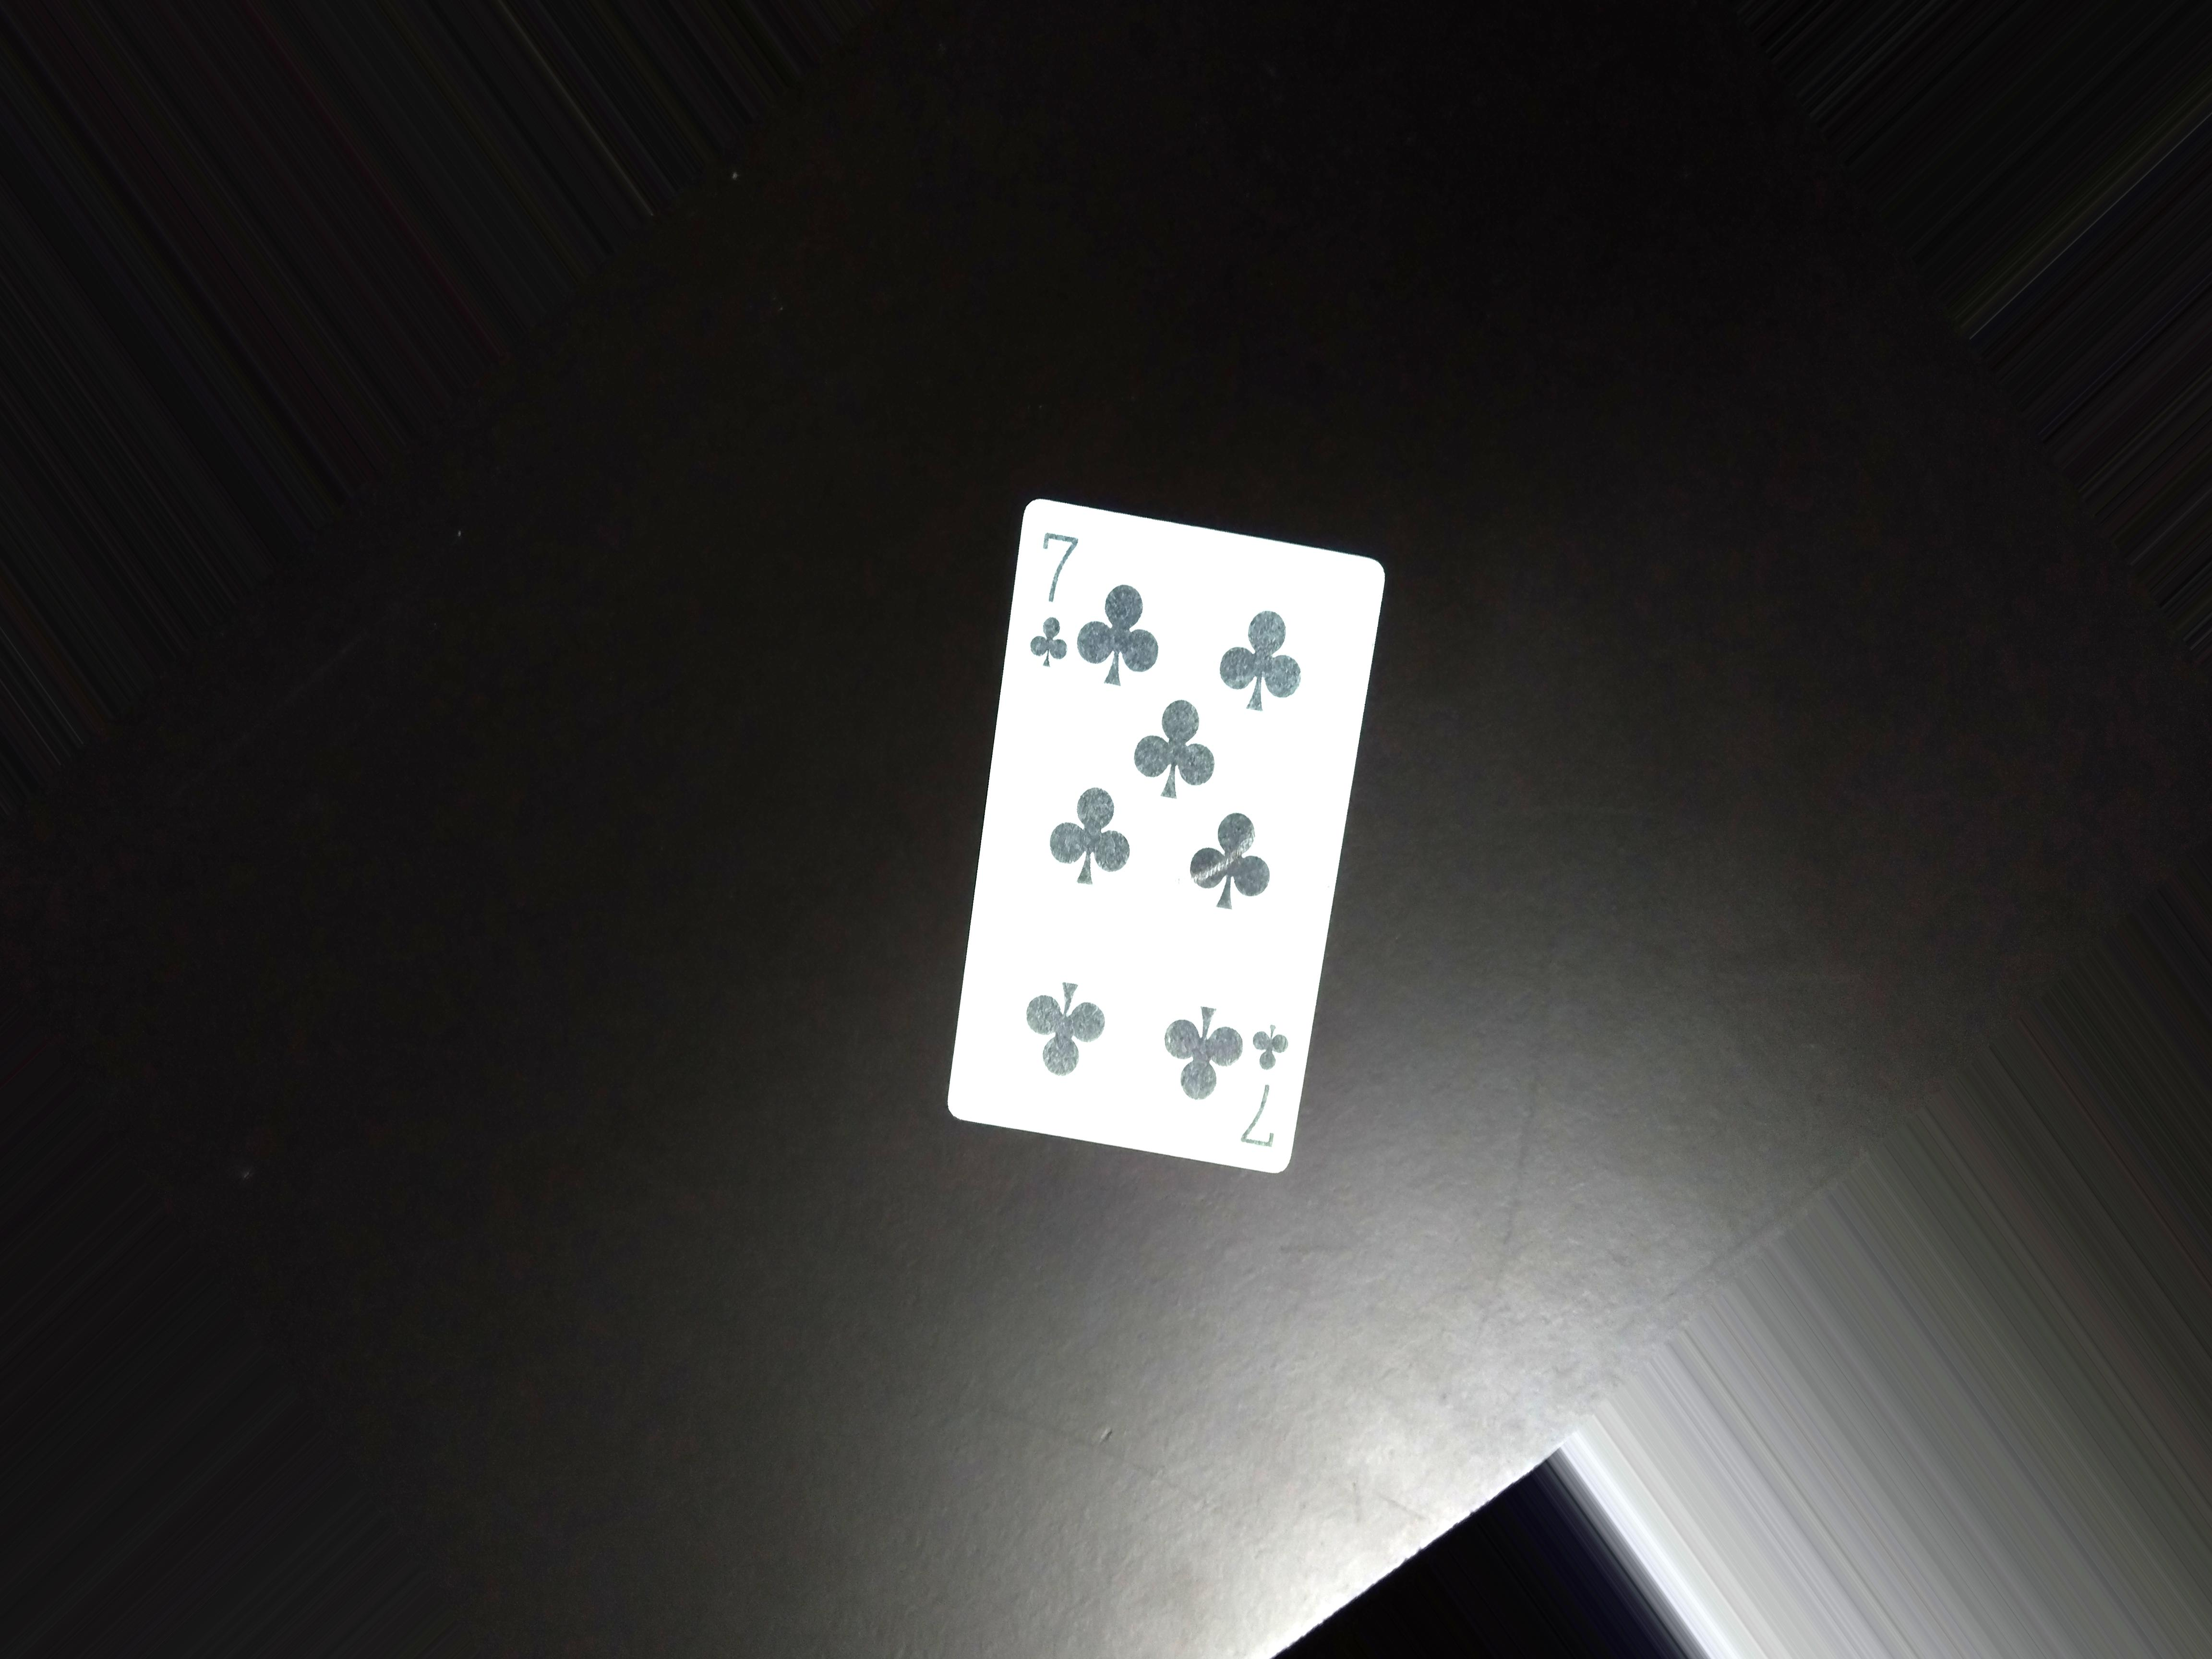7C: (1035, 507, 1076, 681)
